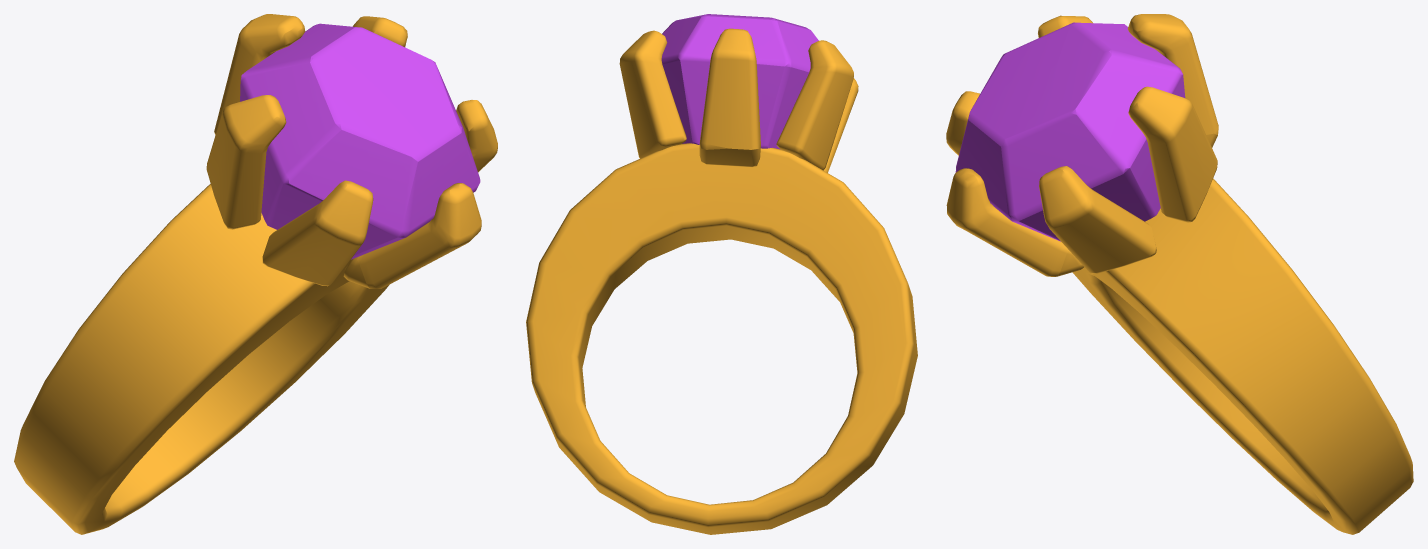
The picture shows the model from 3 angles, left to right: view 1: azimuth 30°, elevation 25°; view 2: azimuth 150°, elevation 25°; view 3: azimuth 270°, elevation 25°; orthographic projection. The views are drawn at different scales.
Parts seen in each view (by area): view 1: model_1.090; view 2: model_1.090; view 3: model_1.090.
Part boxes in pixels (x1,y1,x2,y2): model_1.090: (14, 14, 497, 534); model_1.090: (526, 14, 917, 534); model_1.090: (946, 14, 1413, 534).
Bounding box in the file's own units: 3.37 × 4.18 × 3.38.
